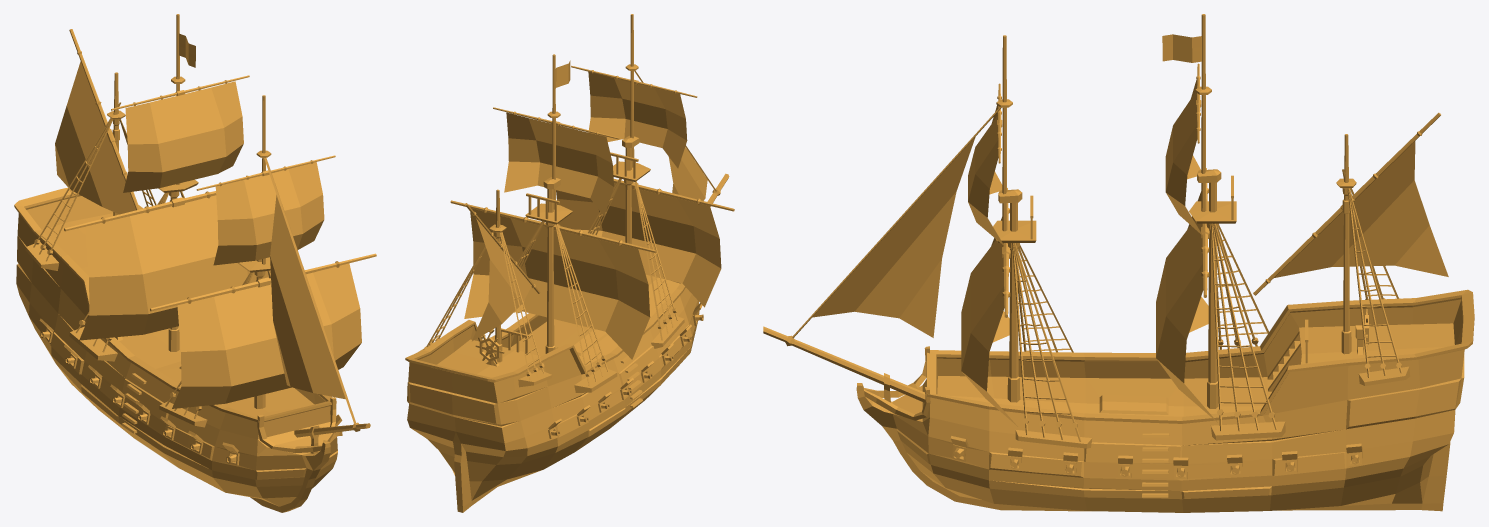
The model's file is ship-colonial-small-flags.fbx.
The picture shows the model from 3 angles, left to right: view 1: azimuth 30°, elevation 25°; view 2: azimuth 150°, elevation 25°; view 3: azimuth 270°, elevation 25°; orthographic projection. The views are drawn at different scales.
Visible parts, largest first — view 1: ship-colonial-small-flags; view 2: ship-colonial-small-flags; view 3: ship-colonial-small-flags.
Boxes of the visible parts, x1,y1,x2,y2 form: ship-colonial-small-flags: (14, 14, 376, 512); ship-colonial-small-flags: (405, 14, 734, 512); ship-colonial-small-flags: (763, 14, 1474, 512).
Bounding box in the file's own units: 12.22 × 22.17 × 28.88.
